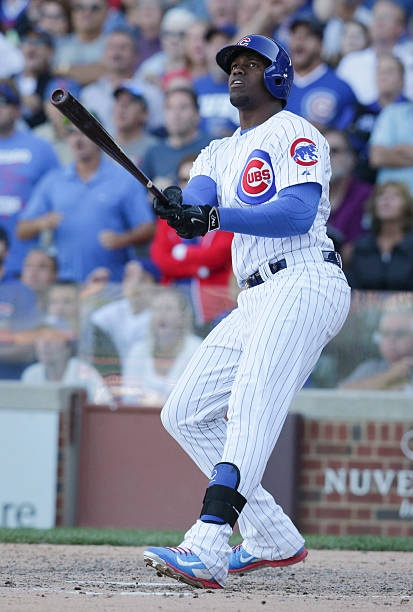bita: (52, 85, 181, 208)
